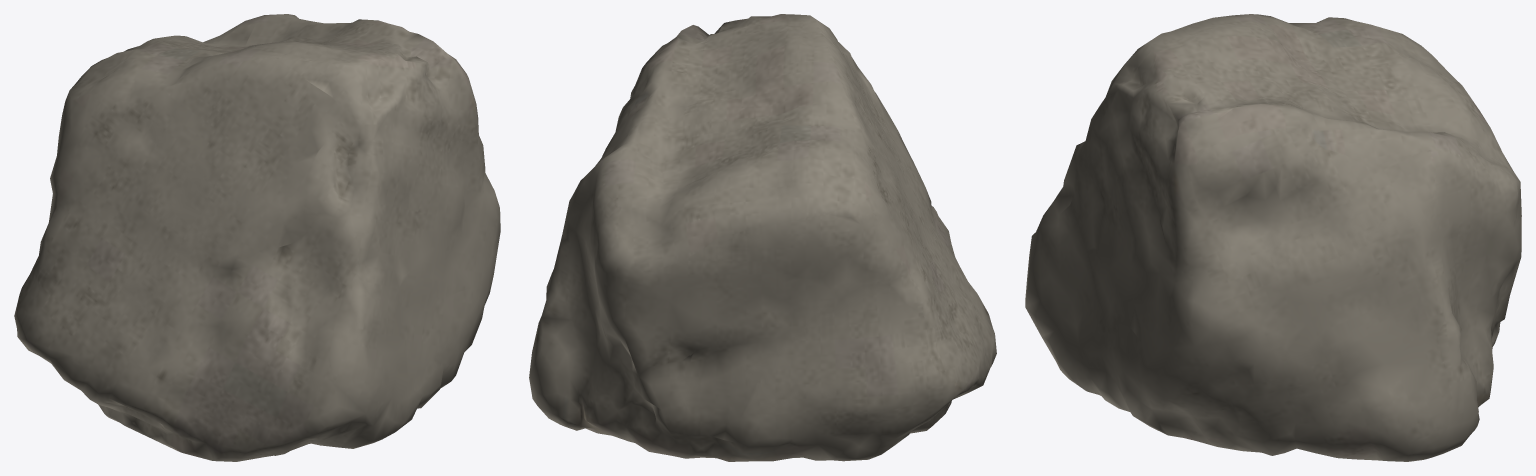
Rendered from rock-b.glb.
3 views of the same model, side by side, from view 1: azimuth 30°, elevation 25°; view 2: azimuth 150°, elevation 25°; view 3: azimuth 270°, elevation 25° (orthographic). The views are drawn at different scales.
Parts seen in each view (by area): view 1: moon_rock_02_LOD0; view 2: moon_rock_02_LOD0; view 3: moon_rock_02_LOD0.
Part boxes in pixels (x1,y1,x2,y2): moon_rock_02_LOD0: (14, 14, 500, 461); moon_rock_02_LOD0: (529, 14, 996, 461); moon_rock_02_LOD0: (1025, 14, 1521, 461).
Size of the model in its own units: 0.2465 by 0.2019 by 0.2513.
1 material, 1 textured.
